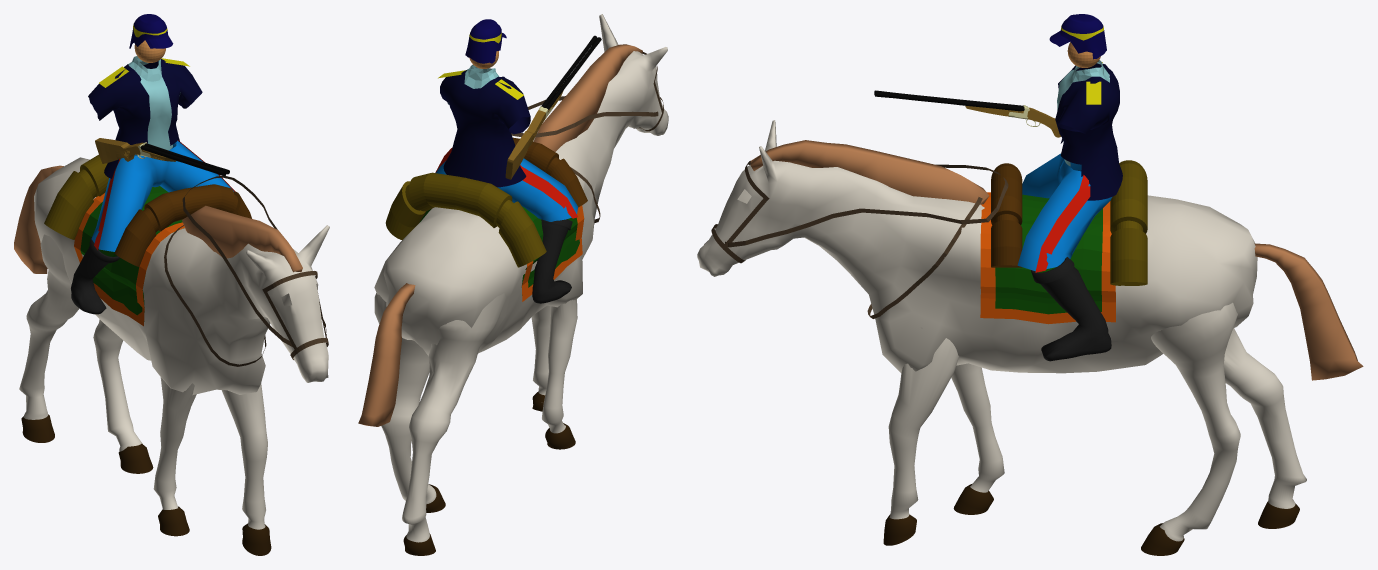
File: Cavalry.dae
3 views of the same model, side by side, from view 1: azimuth 30°, elevation 25°; view 2: azimuth 150°, elevation 25°; view 3: azimuth 270°, elevation 25° (orthographic). The views are drawn at different scales.
Parts seen in each view (by area): view 1: horse_body, pants, jacket, rigth_rear_leg, sack_fromt, front_left_leg, tail_001, left_rear_leg, right_front_leg, sack_back, horse_cover, shirt (+15 smaller); view 2: horse_body, rigth_rear_leg, jacket, sack_back, left_rear_leg, tail, tail_001, right_front_leg, boot_right, pants, sack_fromt, front_left_leg (+10 smaller); view 3: horse_body, left_rear_leg, tail_001, jacket, rigth_rear_leg, front_left_leg, tail, pants, horse_cover, sack_back, boot_left, horse_cover_trim (+10 smaller).
Part boxes in pixels (left/top/right/bottom): horse_body: left=34, top=157, right=329, bottom=395; pants: left=91, top=140, right=233, bottom=251; jacket: left=88, top=59, right=202, bottom=178; rigth_rear_leg: left=19, top=234, right=79, bottom=419; sack_fromt: left=114, top=184, right=251, bottom=266; front_left_leg: left=221, top=383, right=267, bottom=531; tail_001: left=182, top=205, right=302, bottom=272; left_rear_leg: left=93, top=319, right=142, bottom=451; right_front_leg: left=153, top=377, right=196, bottom=509; sack_back: left=44, top=154, right=108, bottom=239; horse_cover: left=80, top=186, right=183, bottom=321; shirt: left=128, top=56, right=180, bottom=155; horse_body: left=374, top=14, right=668, bottom=356; rigth_rear_leg: left=402, top=293, right=506, bottom=542; jacket: left=440, top=70, right=530, bottom=187; sack_back: left=385, top=172, right=546, bottom=267; left_rear_leg: left=374, top=293, right=436, bottom=504; tail: left=358, top=283, right=415, bottom=426; tail_001: left=533, top=44, right=642, bottom=151; right_front_leg: left=542, top=299, right=577, bottom=433; boot_right: left=532, top=219, right=572, bottom=303; pants: left=436, top=158, right=577, bottom=221; sack_fromt: left=513, top=137, right=587, bottom=207; front_left_leg: left=531, top=305, right=550, bottom=395; horse_body: left=697, top=120, right=1257, bottom=373; left_rear_leg: left=1151, top=302, right=1240, bottom=541; tail_001: left=750, top=140, right=989, bottom=204; jacket: left=1055, top=63, right=1122, bottom=200; rigth_rear_leg: left=1223, top=328, right=1306, bottom=508; front_left_leg: left=888, top=327, right=959, bottom=519; tail: left=1254, top=243, right=1363, bottom=380; pants: left=1017, top=153, right=1112, bottom=271; horse_cover: left=995, top=194, right=1102, bottom=314; sack_back: left=1110, top=160, right=1147, bottom=285; boot_left: left=1031, top=257, right=1111, bottom=361; horse_cover_trim: left=980, top=192, right=1115, bottom=324.
Size of the model in its own units: 1.04 by 3.13 by 2.7.
